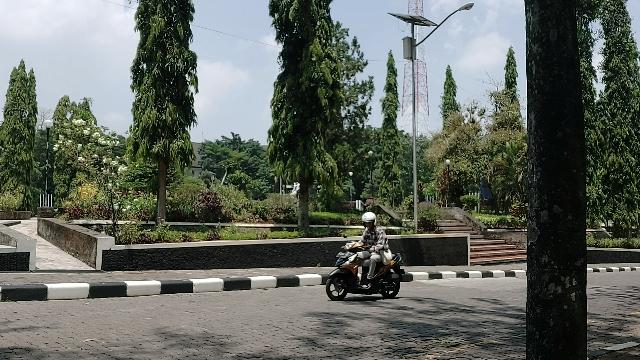helm: (362, 212, 378, 230)
motor: (326, 234, 406, 304)
